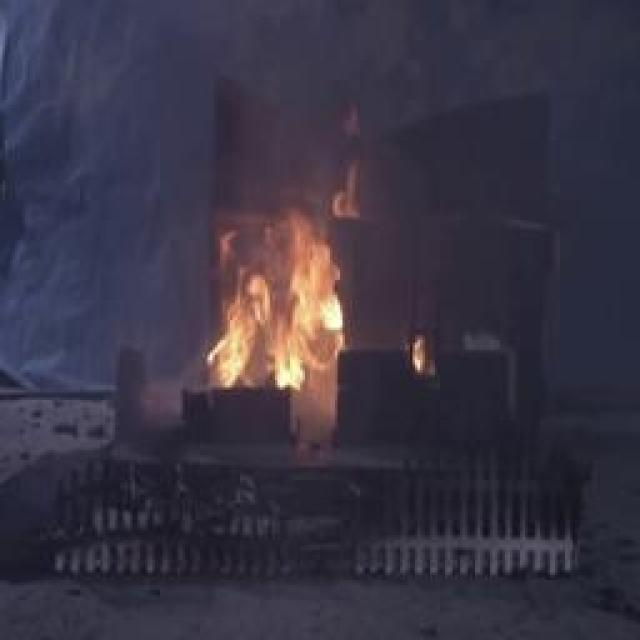fire: (191, 180, 374, 415)
